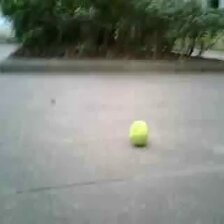tennis: (128, 120, 148, 145)
